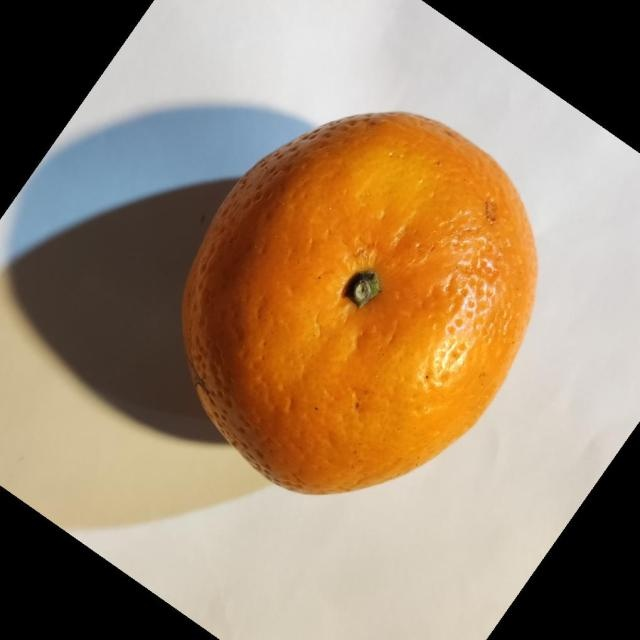agrume: (180, 109, 538, 496)
